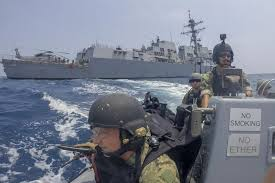tau_muctieu: (6, 28, 219, 88)
